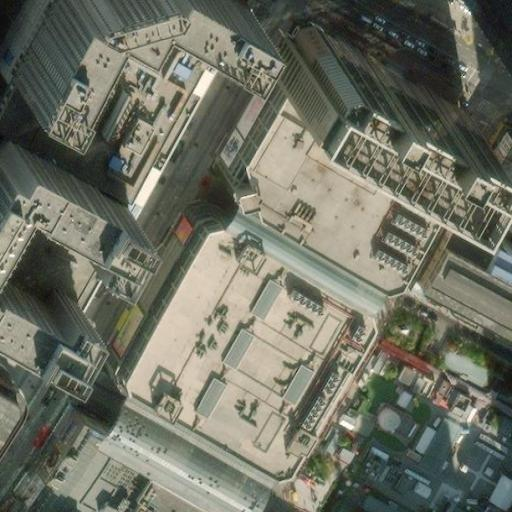building: (0, 0, 222, 318), (115, 189, 364, 439), (213, 56, 446, 250), (270, 2, 470, 156), (92, 351, 270, 487), (417, 121, 512, 335), (16, 423, 237, 512), (213, 165, 373, 272), (352, 450, 440, 511), (0, 247, 67, 326), (399, 403, 461, 472), (364, 352, 432, 401), (421, 369, 476, 421), (461, 389, 512, 445), (360, 399, 416, 450), (0, 383, 29, 453), (431, 352, 484, 389), (476, 468, 511, 507), (352, 495, 396, 512)
